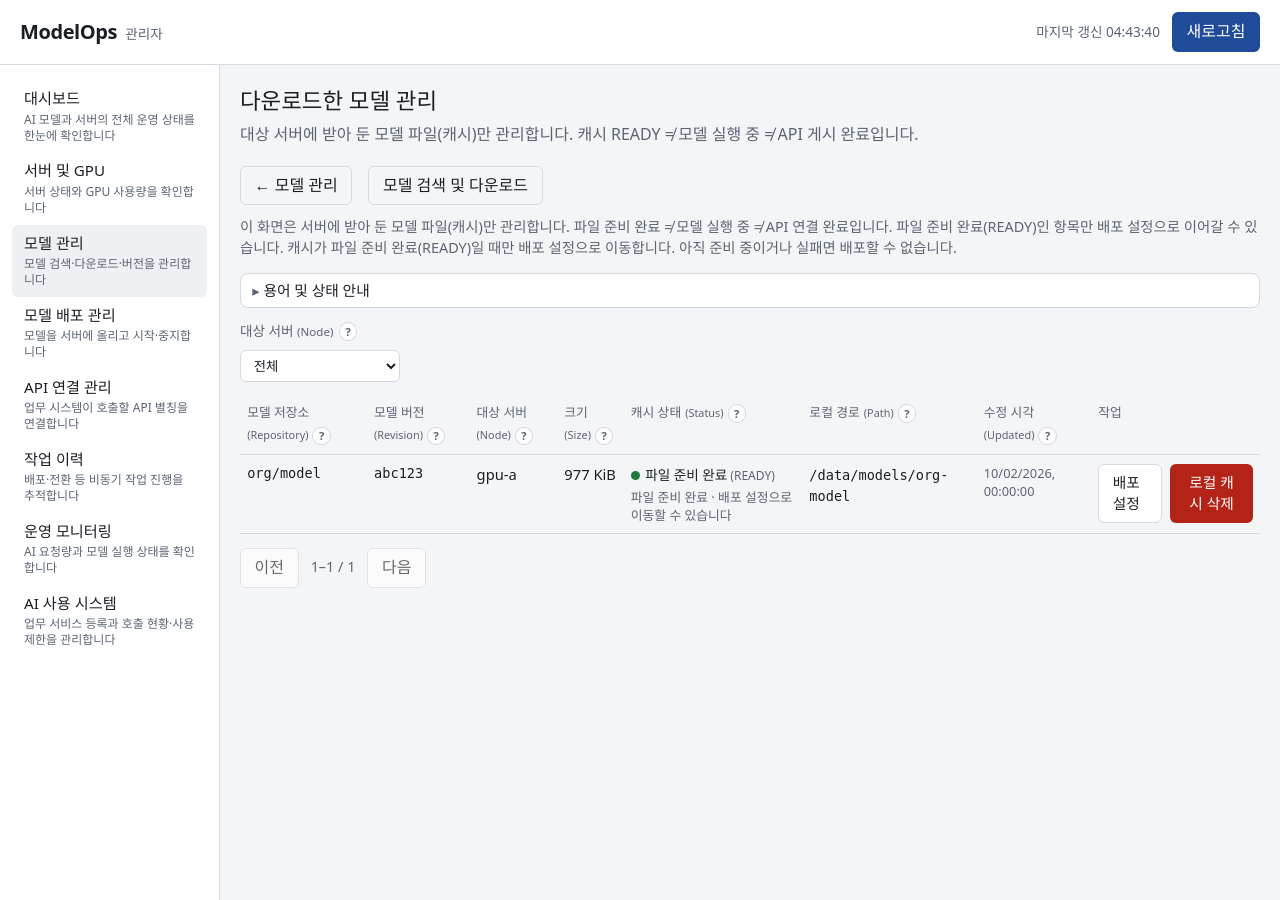
Test: ModelCachePage › shows purge error and keeps dialog open
Expected: the text "org/model" is shown, [247,465,321,481]
Click the button "로컬 캐시 삭제".
click(1212, 493)  # box [1170,464,1253,523]
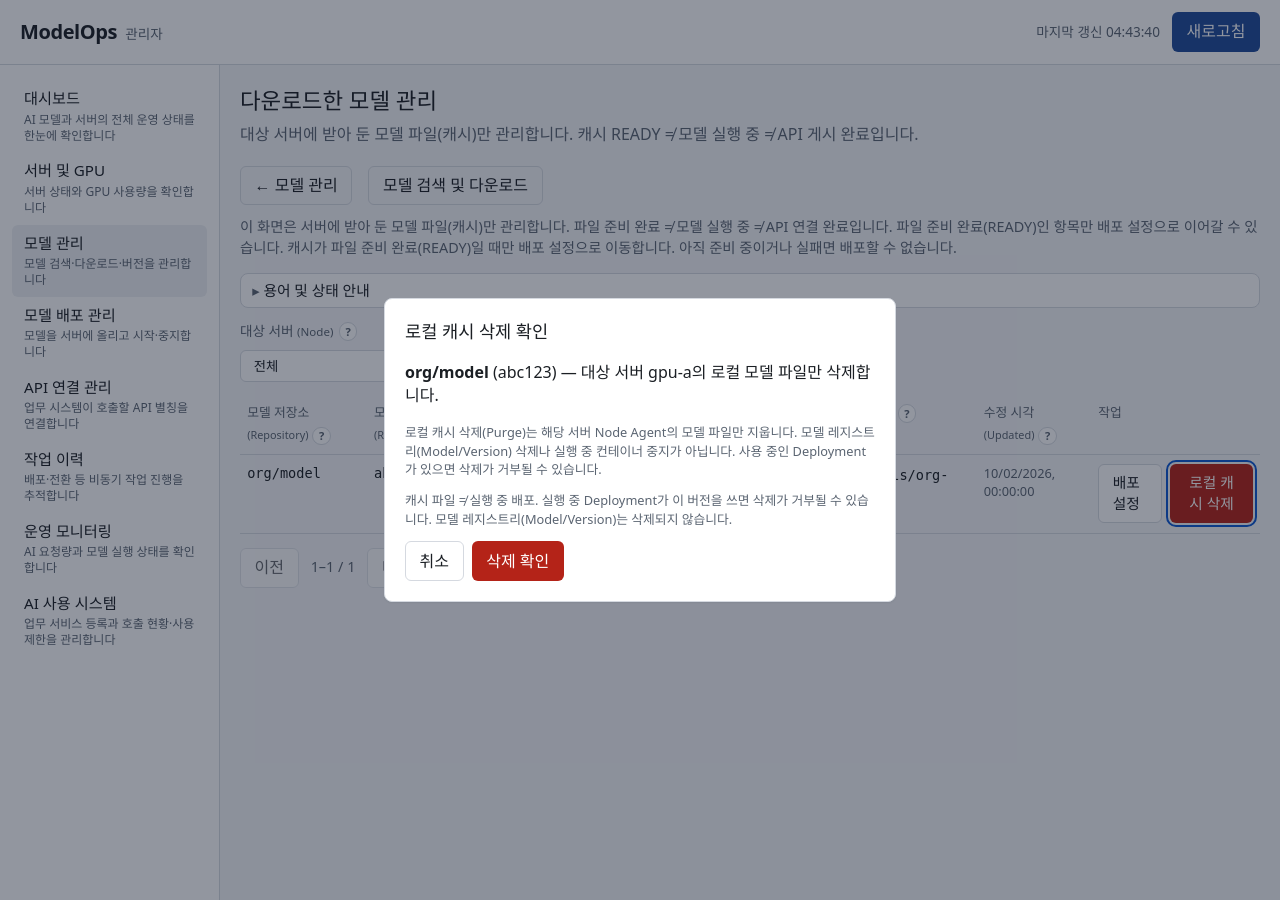
Click the button "삭제 확인".
click(518, 561)  # box [472,541,564,581]
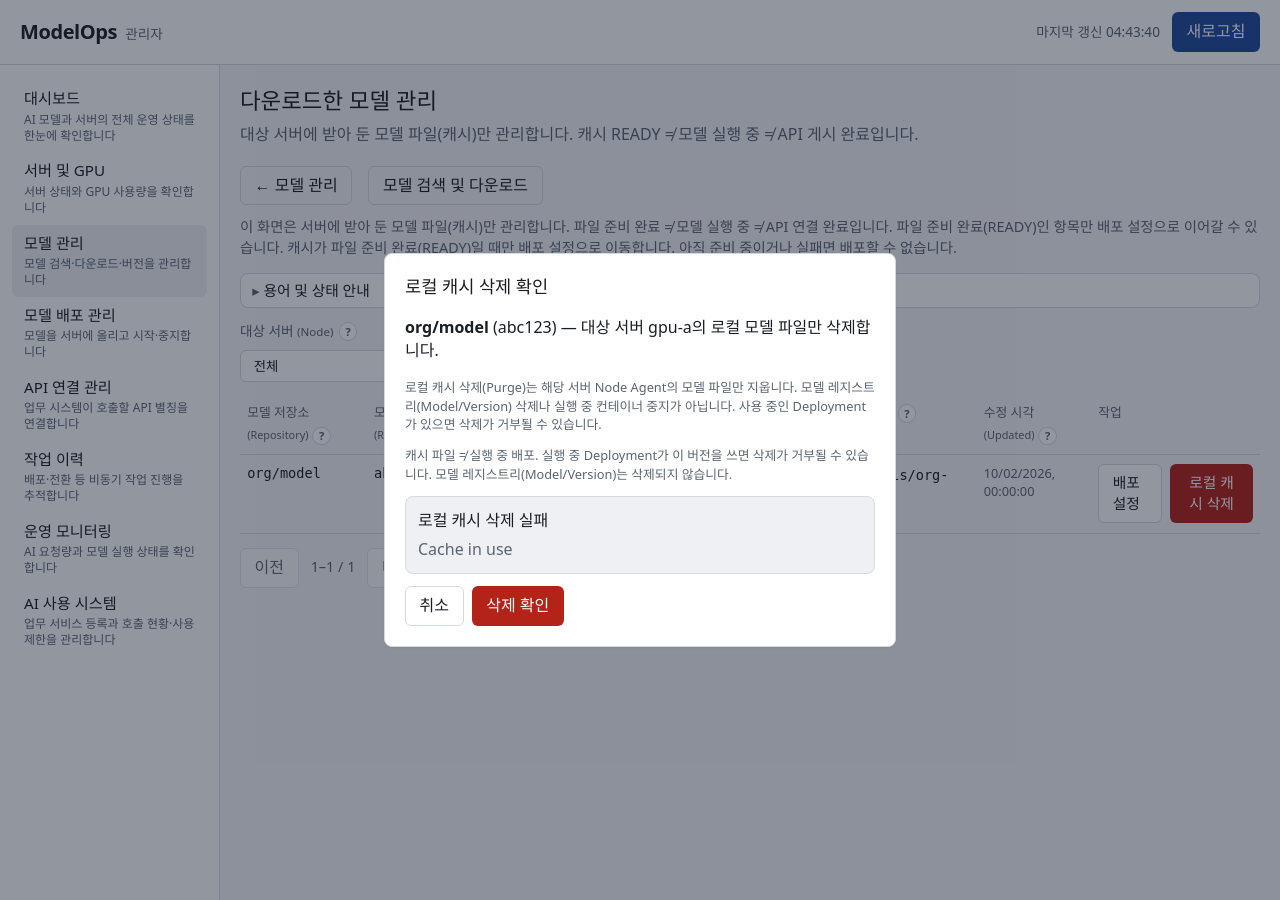
Result: the dialog is shown
Result: the text "Cache in use" is shown at [418,538,513,560]
